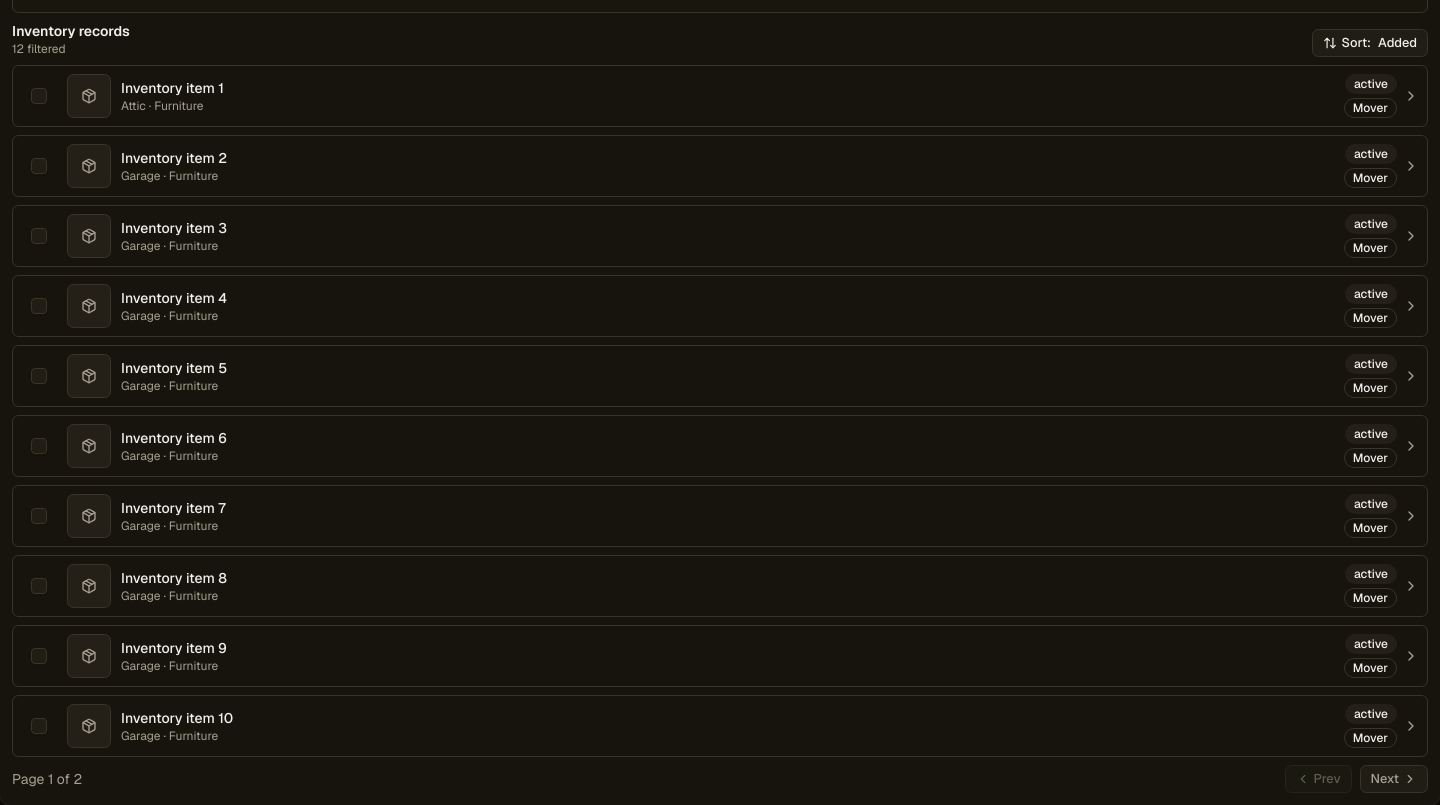
InventoryTable › resets to the first page when search narrows inventory
(page scrolled)
Expected: the text "Page 1 of 2" is shown, [12,769,82,789]
Click the button "Next".
click(1394, 779)  # box [1360,765,1428,793]
(page scrolled)
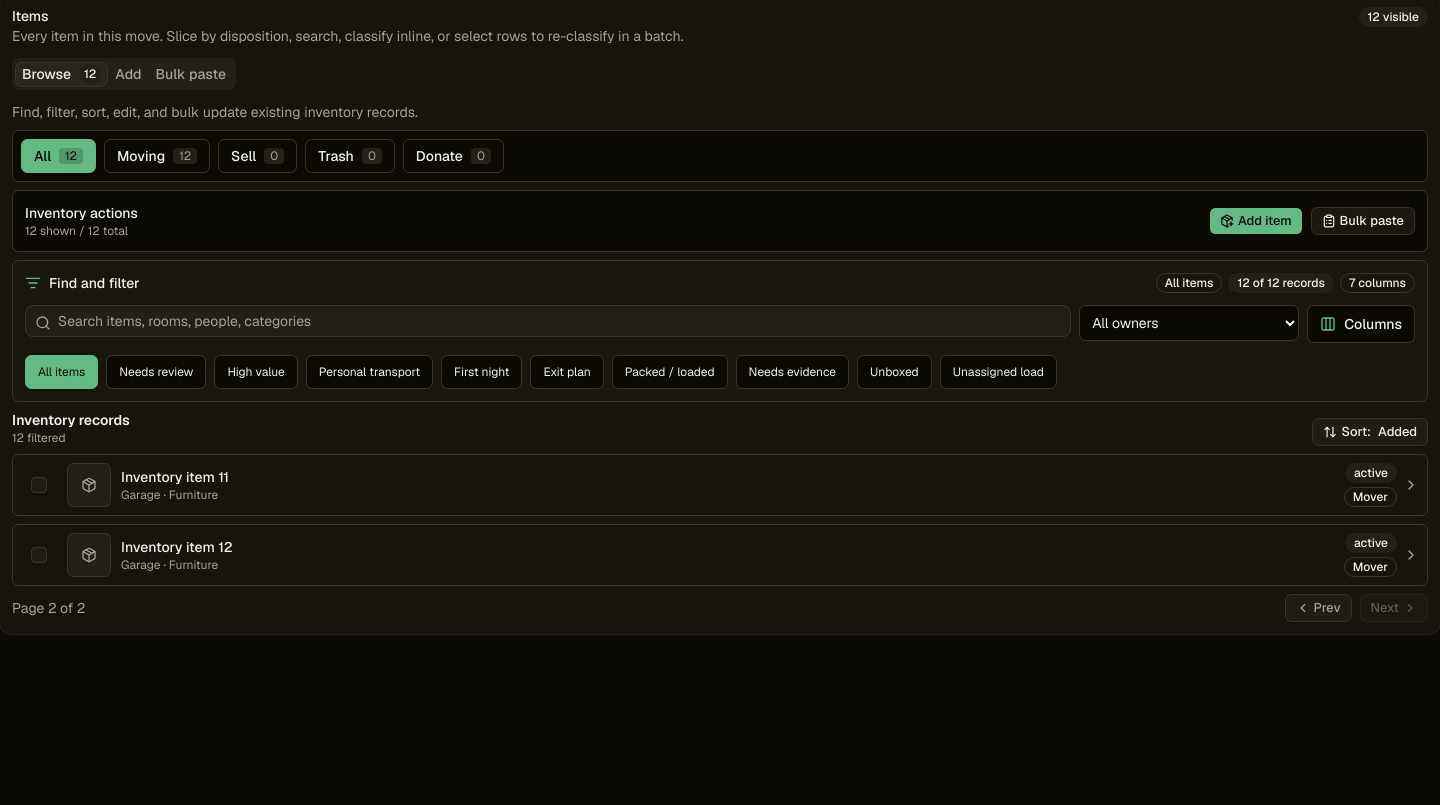
Now the text "Page 2 of 2" is shown, box [12,598,85,618]
Type "Attic" into the field named "Search inventory".
click(548, 321); type("Attic")  # box [25,305,1071,337]
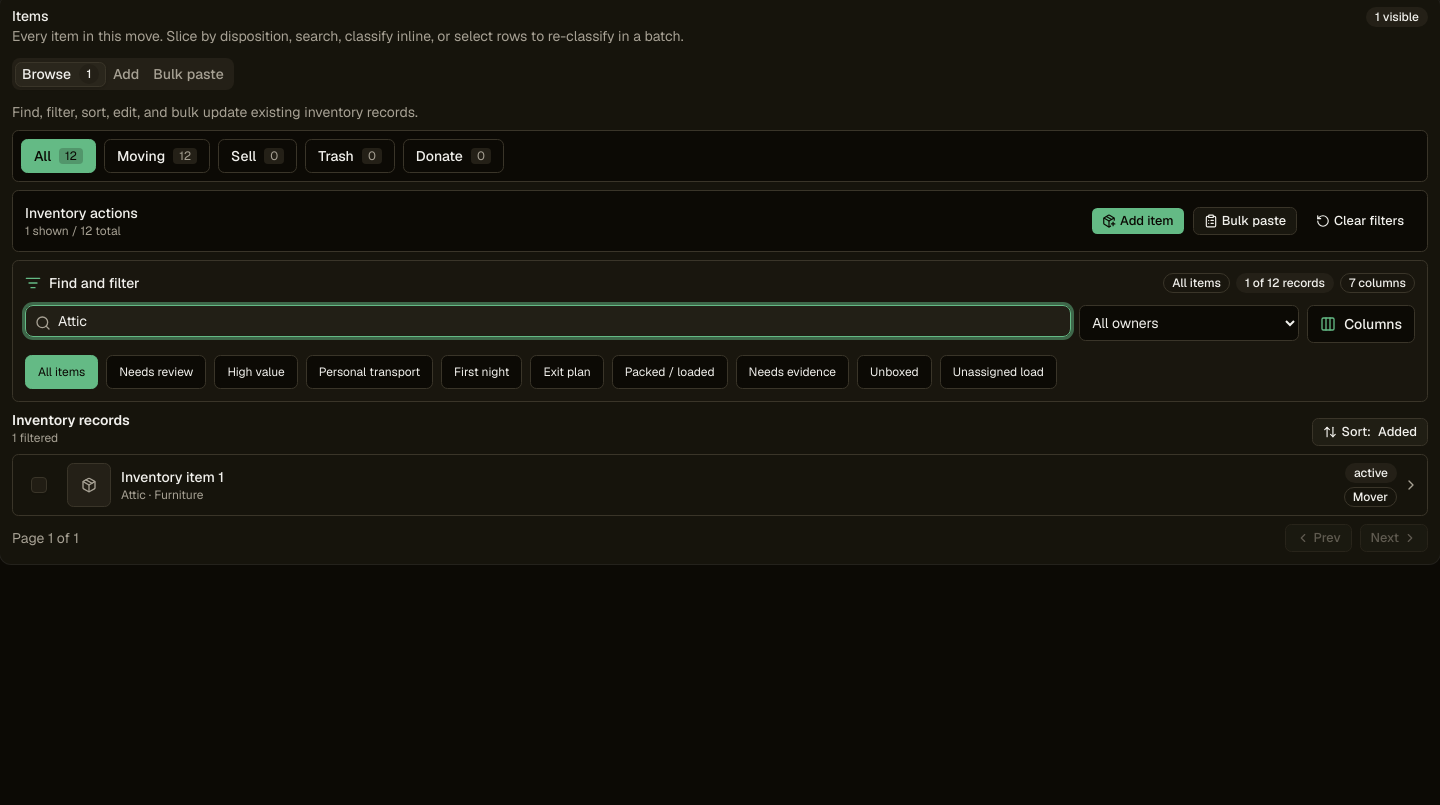
Expected: the text "Inventory item 1" is shown, [121,468,224,486]
Now the text "Page 1 of 1" is shown, box [12,528,79,548]
